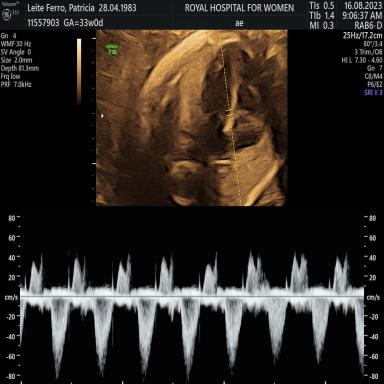Ultrasound-Waves: (24, 216, 362, 384)
